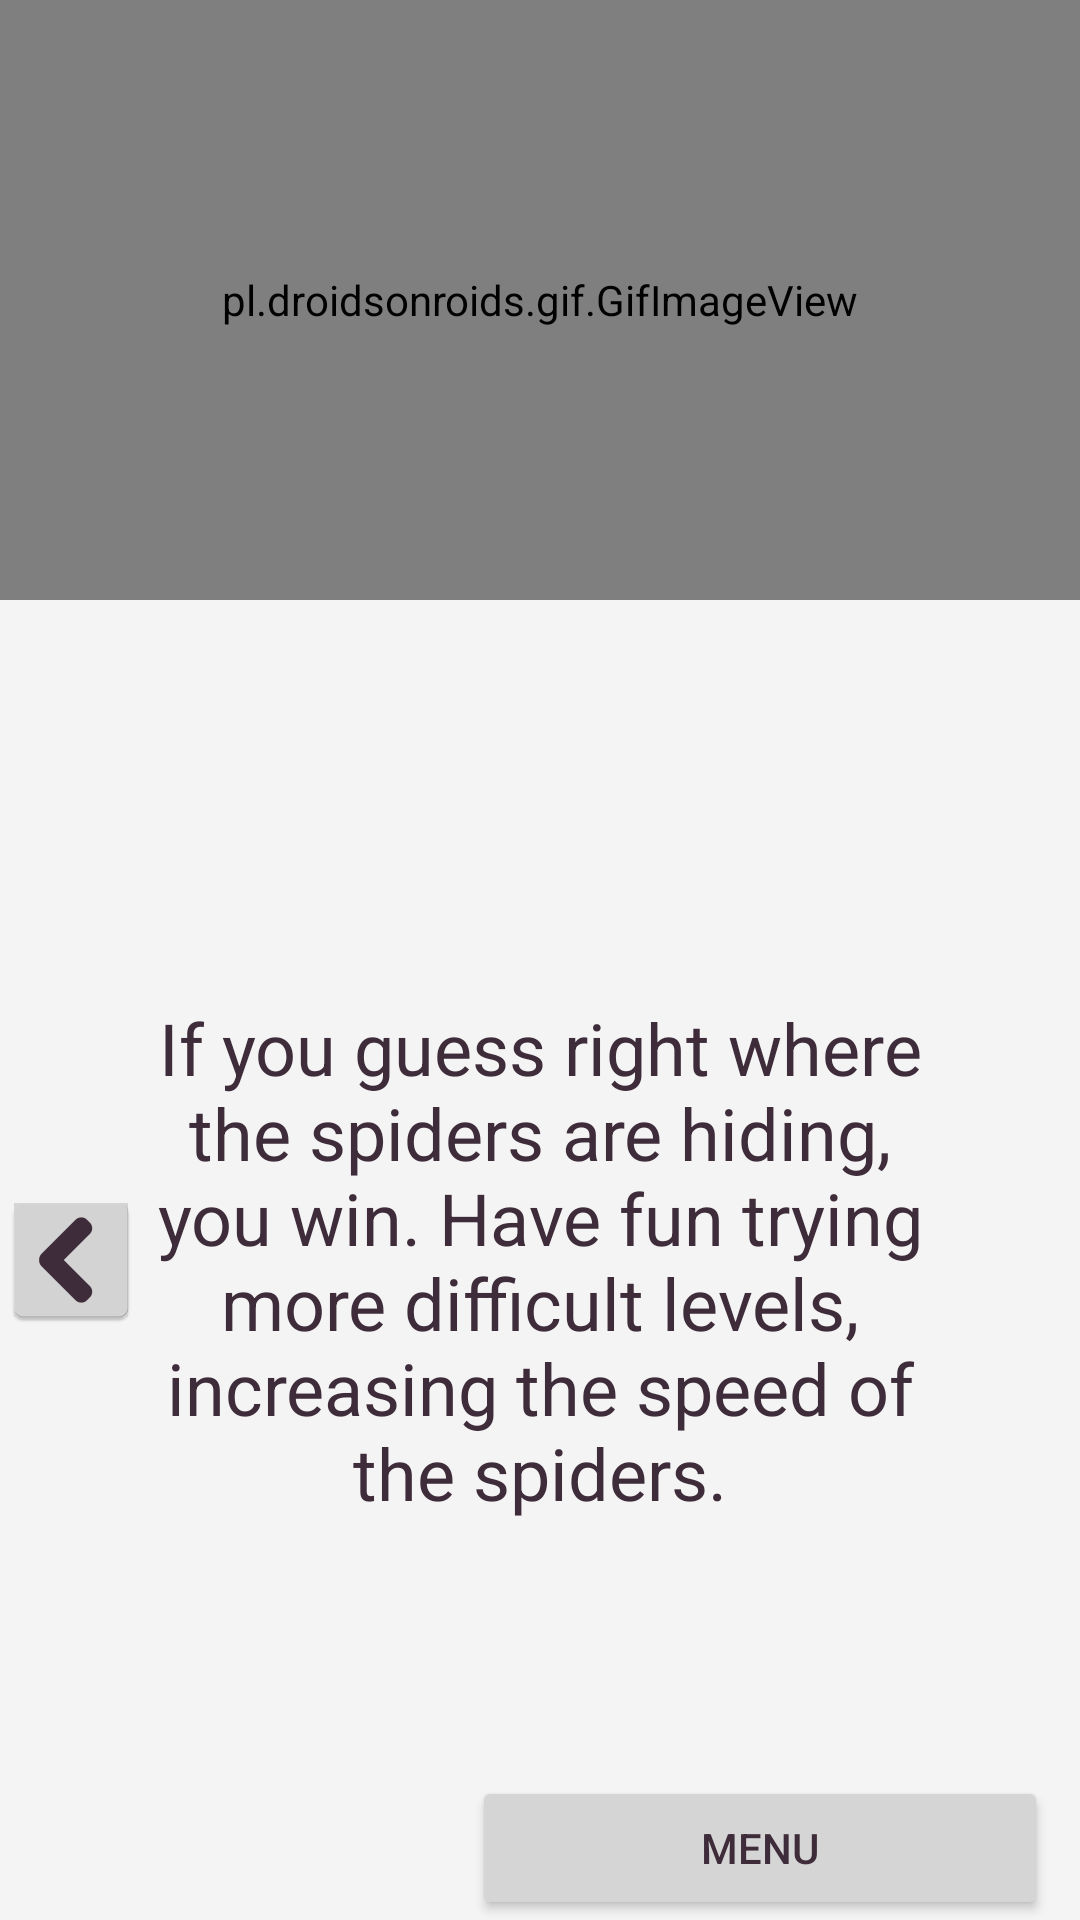

Icons on this 1080px×1920px Android screen, each with the point to tap as (x,y):
indietro: (71,1262)
